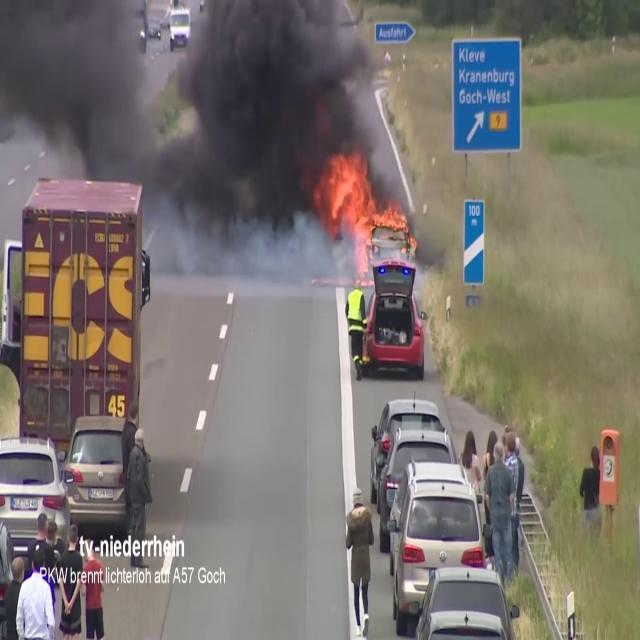Fire: (316, 148, 406, 264)
Smoke: (0, 0, 386, 223)
